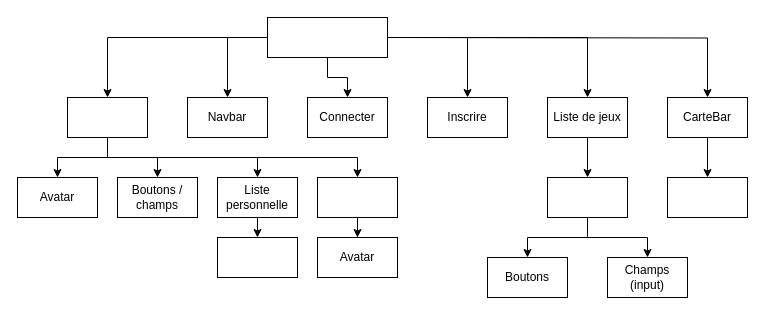
This 765x315 diagram has some shape labels left out. The shapes that lost their labels are listed below. From the top down, each one's centre as x and y in pixels, then its label:
the point at 327,37: App
the point at 107,117: Profil
the point at 357,197: Amis
the point at 587,197: Cards (jeux)
the point at 707,197: Map
the point at 257,257: Jeu unique
